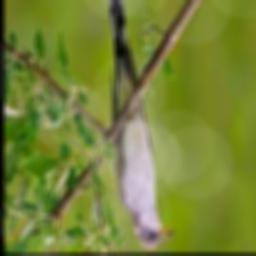Cuckoo: (105, 0, 174, 251)
